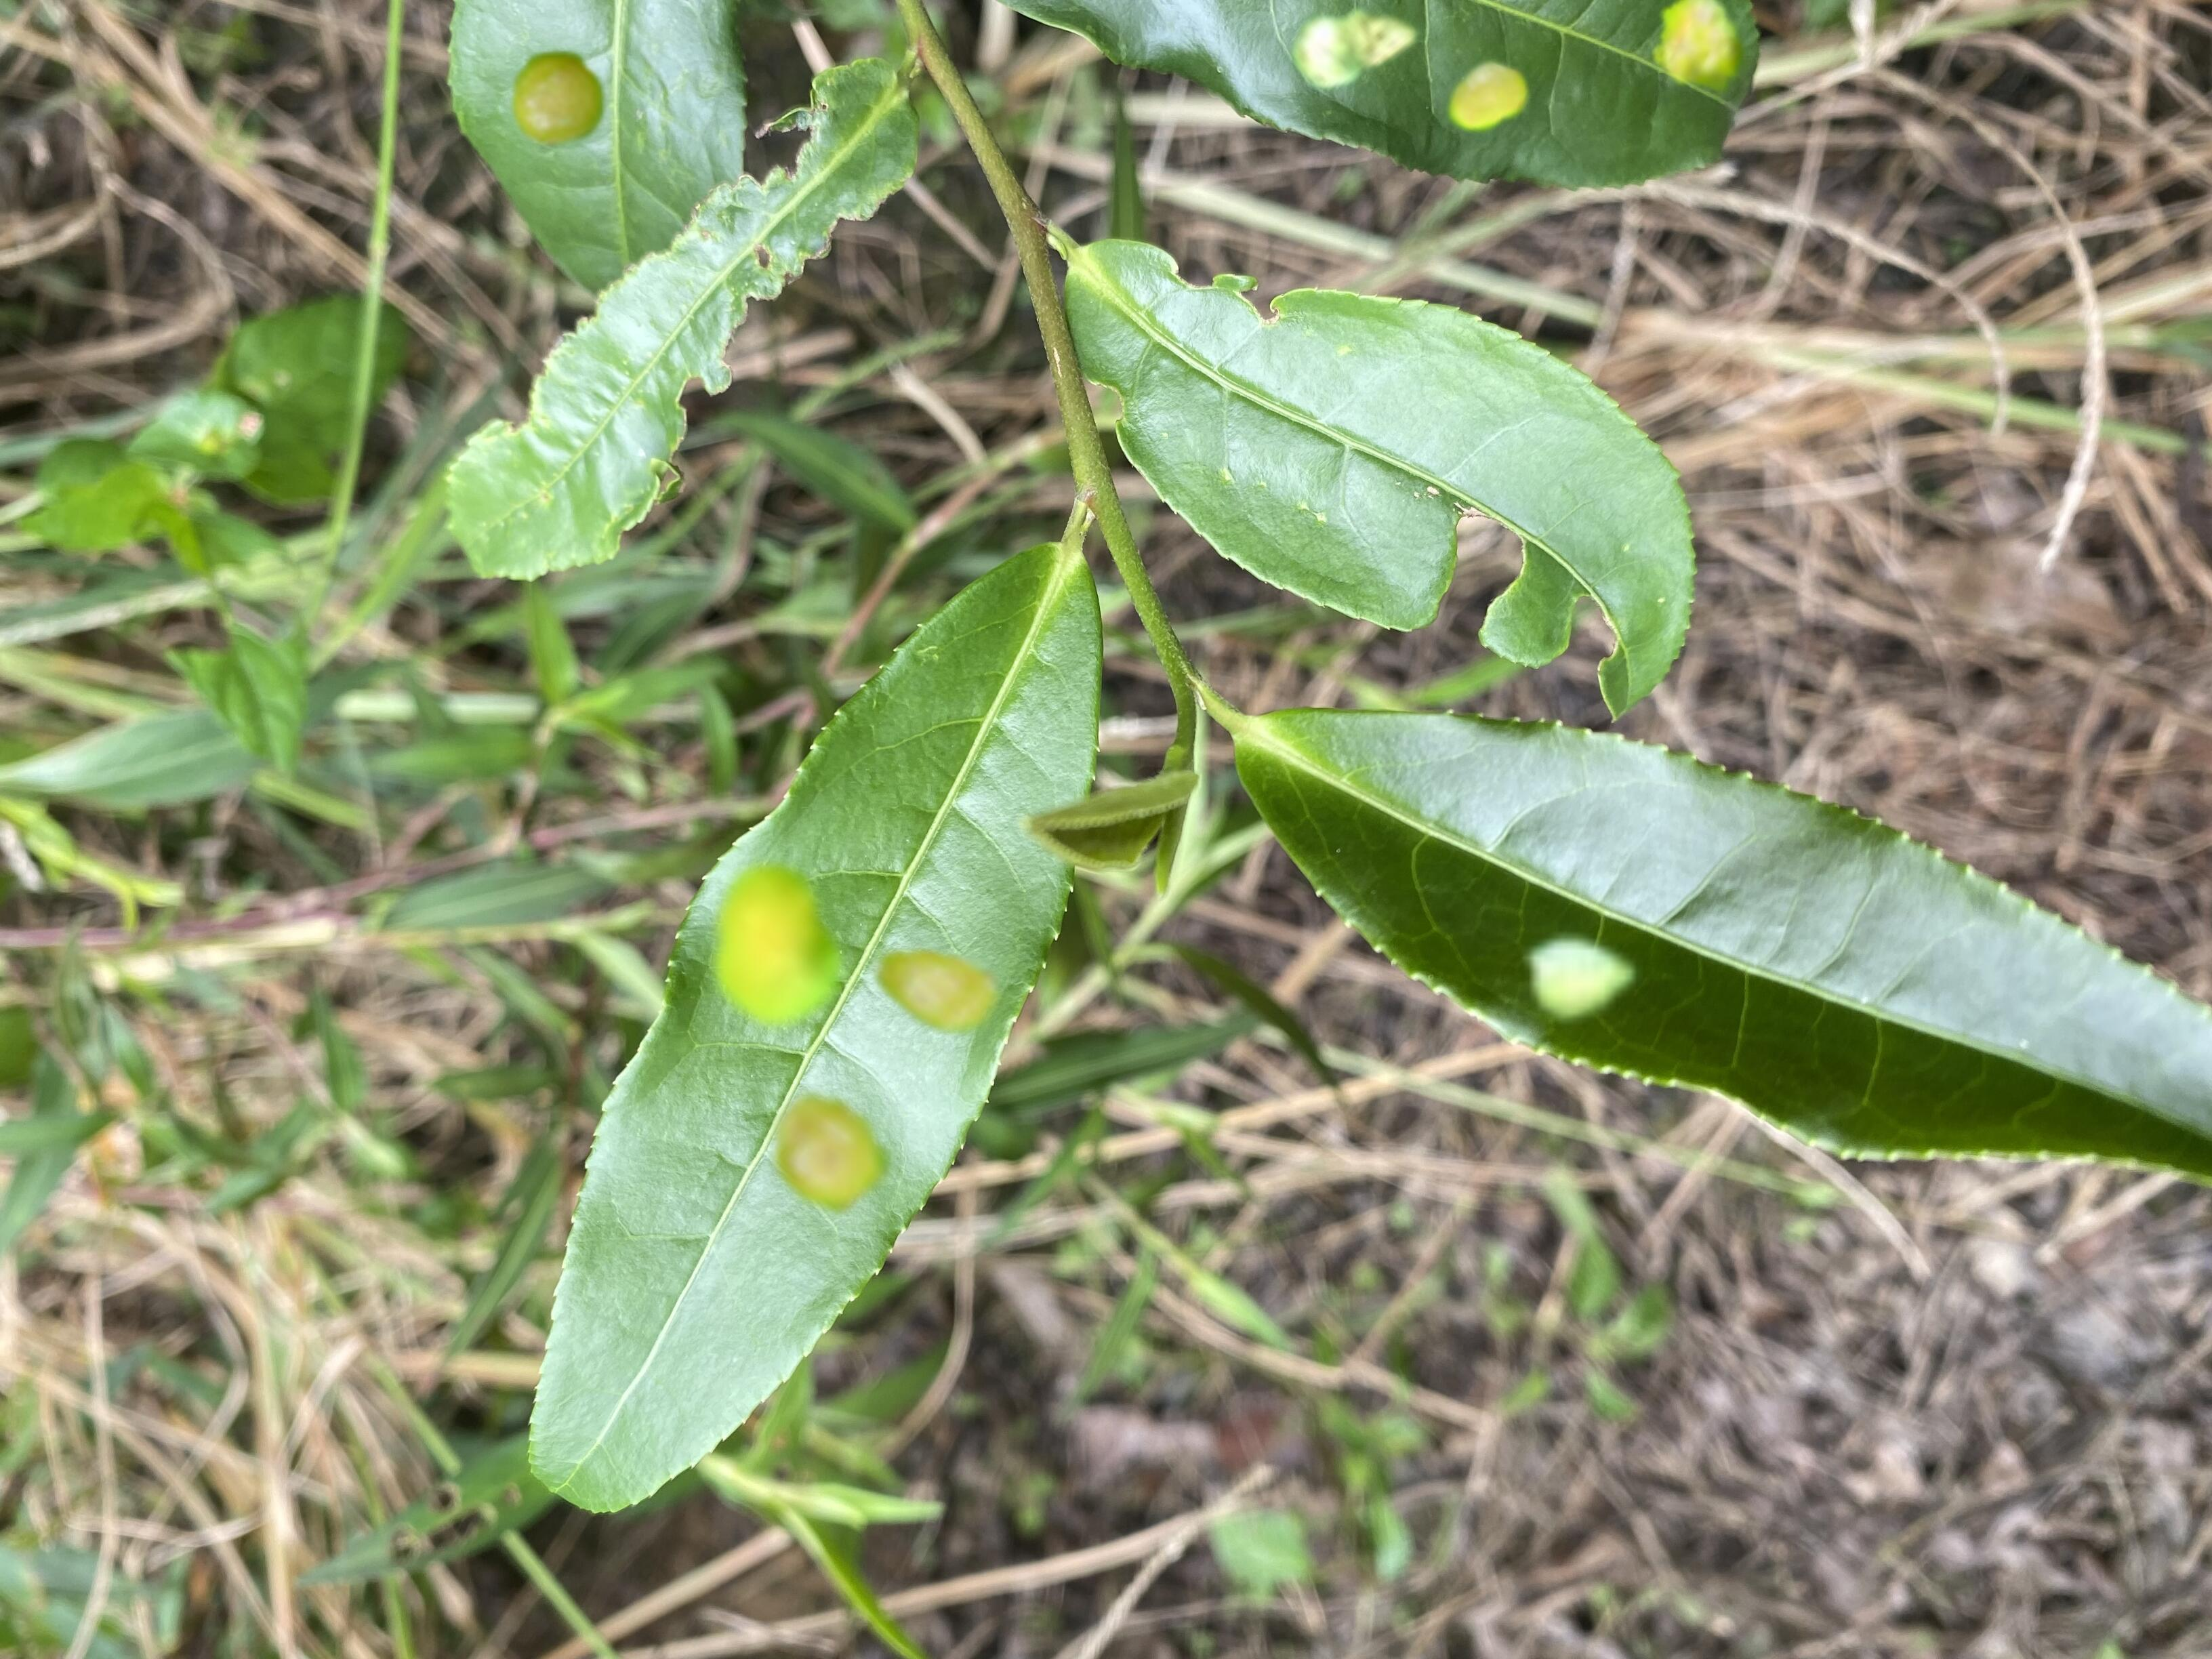chabing_high: (526, 547, 1103, 1513), (1001, 0, 1763, 193)
chabing_low: (1231, 704, 2210, 1175), (439, 3, 747, 298)
chihuo_high: (1059, 237, 1698, 723), (446, 59, 921, 584)
